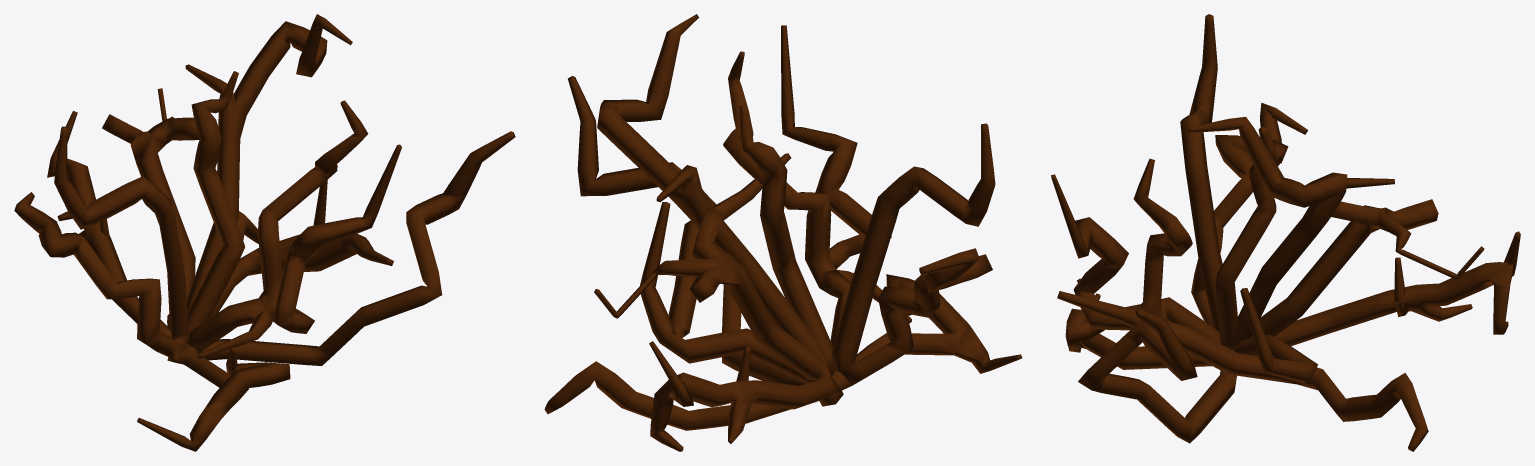
Rendered from Roots.fbx.
3 renders of one model, left to right at view 1: azimuth 30°, elevation 25°; view 2: azimuth 150°, elevation 25°; view 3: azimuth 270°, elevation 25°, orthographic. The views are drawn at different scales.
Parts seen in each view (by area): view 1: Plane; view 2: Plane; view 3: Plane.
Part boxes in pixels (x1,y1,x2,y2): Plane: [14, 14, 515, 451]; Plane: [544, 14, 1022, 451]; Plane: [1051, 14, 1520, 451].
Bounding box in the file's own units: 253 × 179 × 224.
